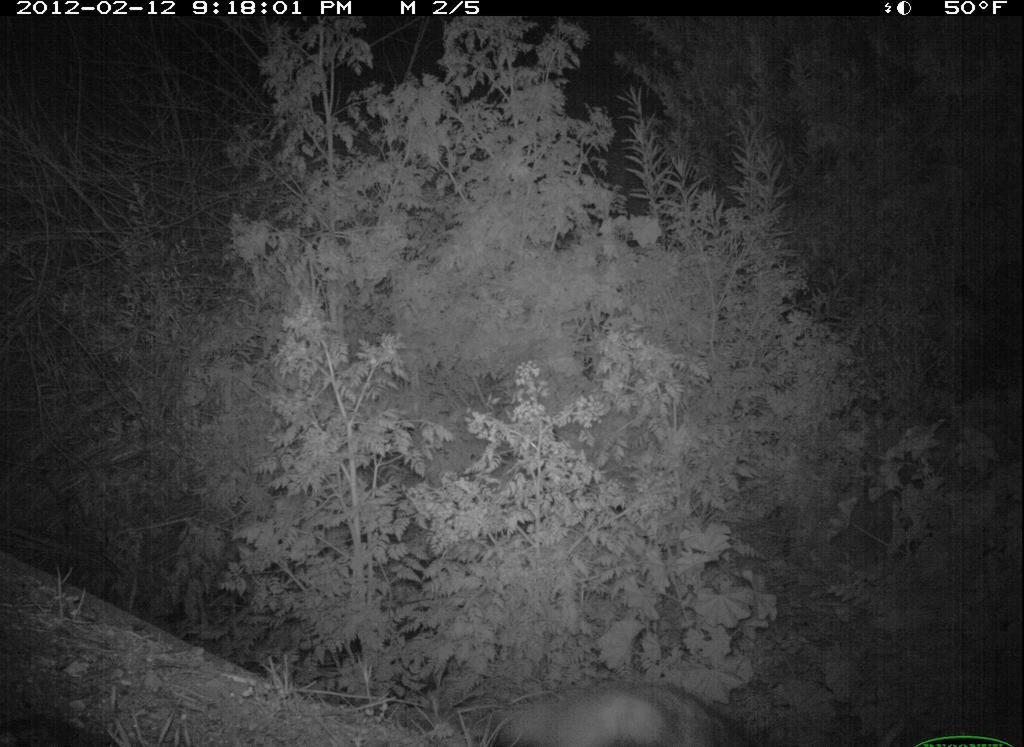opossum: (484, 667, 754, 747)
